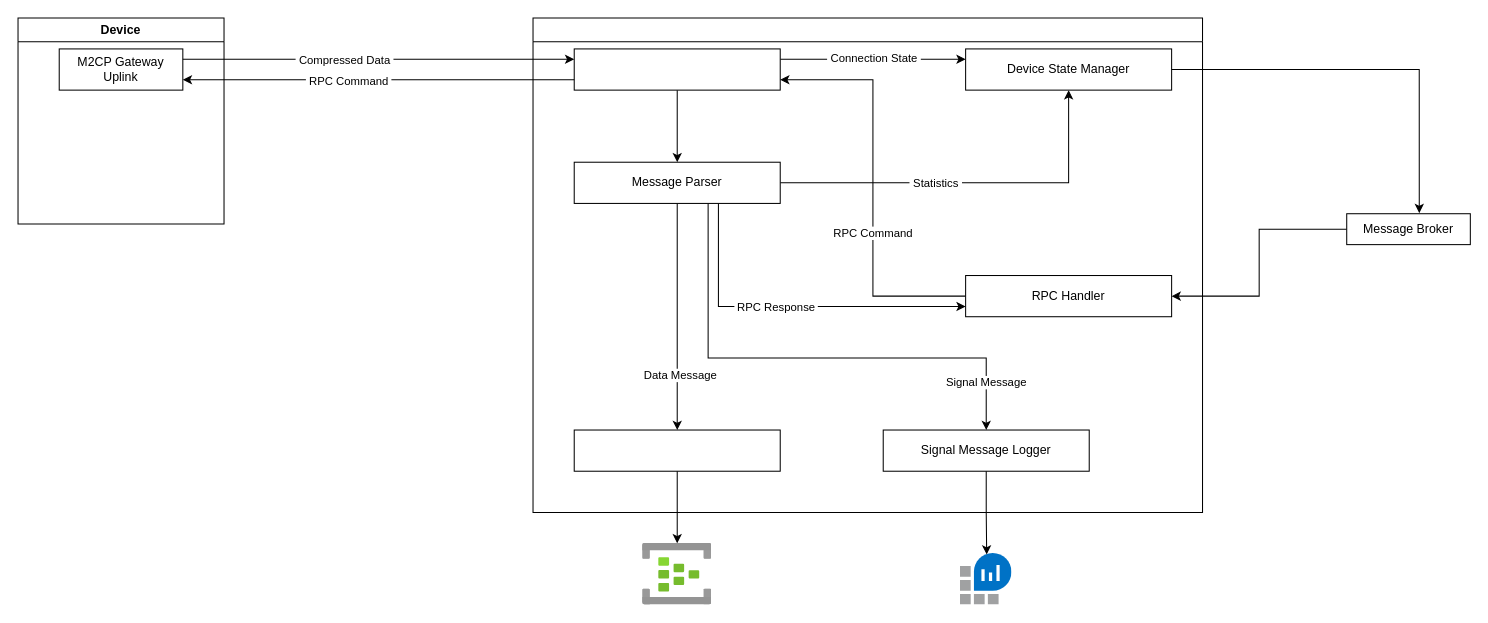
Image size: 1488x623. Some labels were removed from this diagram. Here are the shapes that lost their labels. From the top down, the box of each, then its label:
(573, 48, 780, 90): Device Hub
(532, 17, 1203, 512): SignalR Hub
(573, 429, 780, 471): Data Message Publisher
